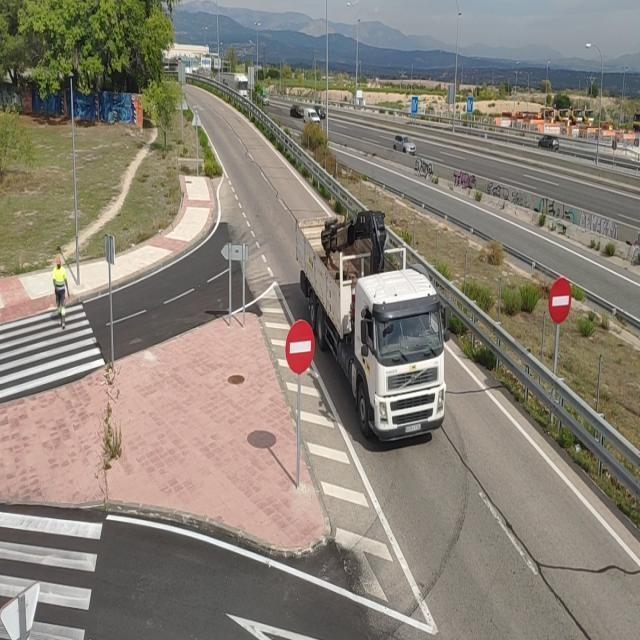Truck: (292, 205, 450, 452)
